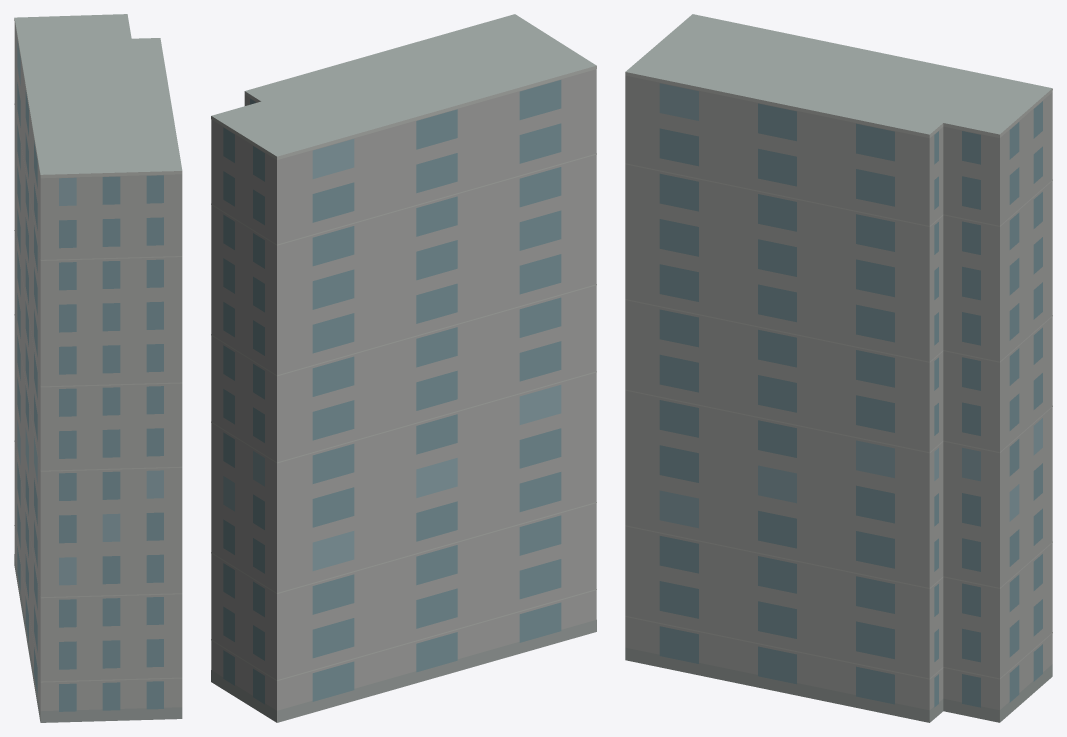
Rendered from survey-upis-33020342.glb.
3 views of the same model, side by side, from view 1: azimuth 30°, elevation 25°; view 2: azimuth 150°, elevation 25°; view 3: azimuth 270°, elevation 25° (orthographic). The views are drawn at different scales.
Parts seen in each view (by area): view 1: survey-upis-33020342.tmp; view 2: survey-upis-33020342.tmp; view 3: survey-upis-33020342.tmp.
Boxes of the visible parts, x1=… form: survey-upis-33020342.tmp: x1=14, y1=14, x2=182, y2=722; survey-upis-33020342.tmp: x1=211, y1=14, x2=596, y2=722; survey-upis-33020342.tmp: x1=625, y1=14, x2=1052, y2=722.
Bounding box in the file's own units: 17.44 × 39.6 × 26.1.
